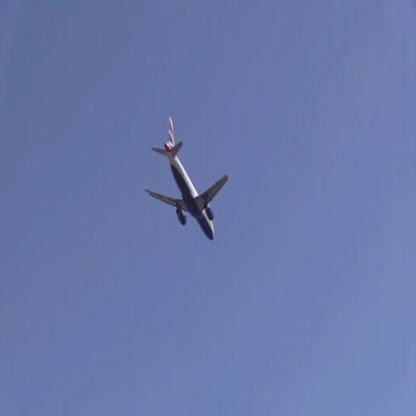CIV_Plane: (146, 115, 230, 240)
